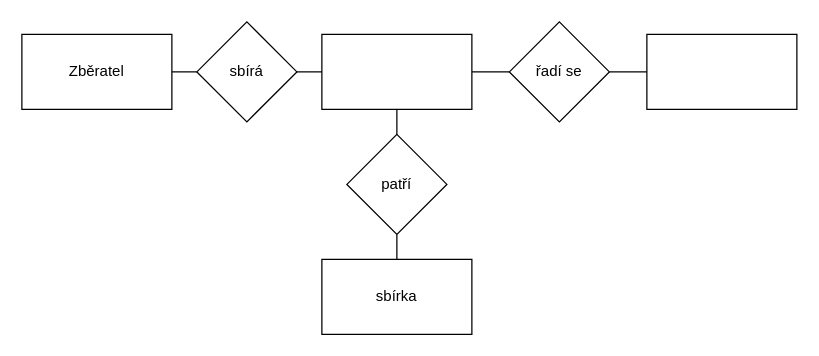
Some shapes in this 819 by 356 pixel diagram are drawn without their labels. Each missing label, with the centre of its shape:
karta: the point at 396,71
kategorie: the point at 721,71
